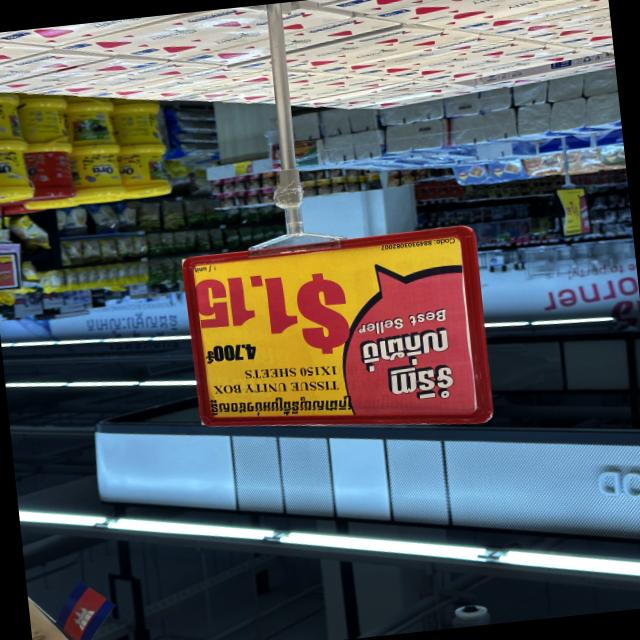746: (198, 342, 267, 369)
98: (192, 268, 351, 356)
Yolov11kh: (359, 325, 461, 371), (381, 355, 466, 406), (206, 391, 360, 416)
